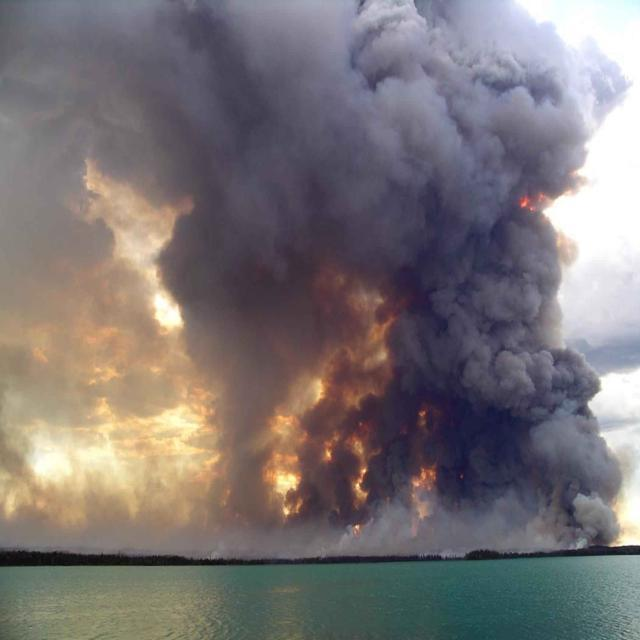Smoke: (11, 5, 640, 553)
